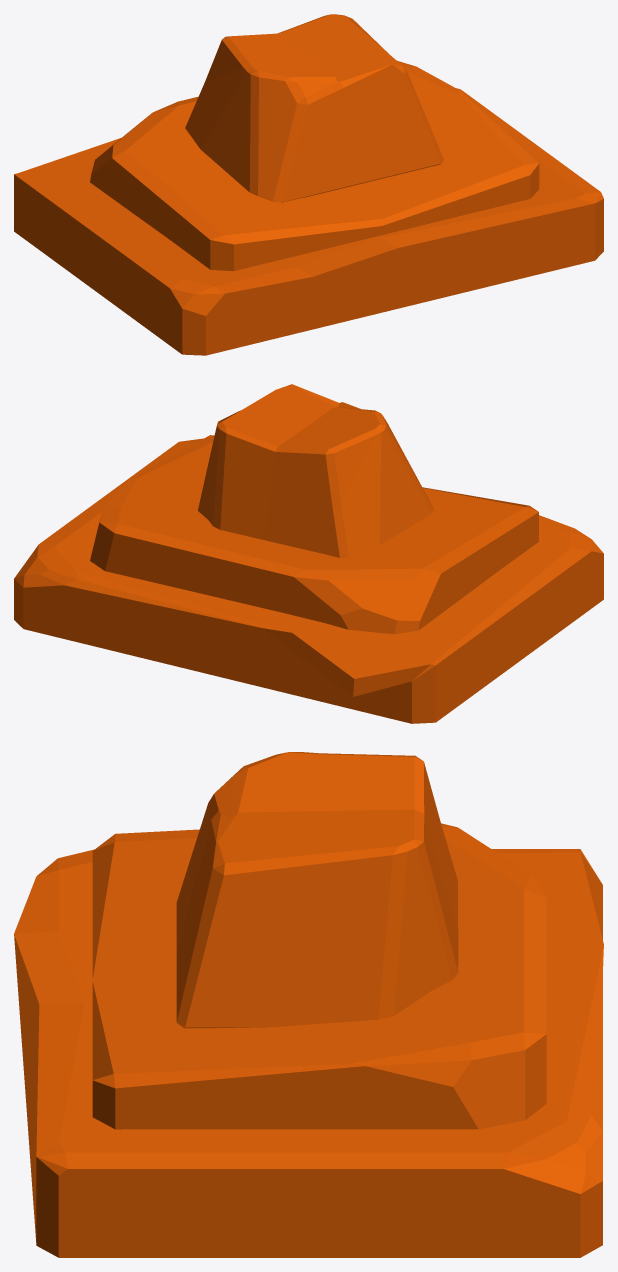
The model's file is Stone_2_09.fbx.
3 views of the same model, one above another, from view 1: azimuth 30°, elevation 25°; view 2: azimuth 150°, elevation 25°; view 3: azimuth 270°, elevation 25° (orthographic). The views are drawn at different scales.
Visible parts, largest first — view 1: Cube.002, Cube.003, Cube.004; view 2: Cube.002, Cube.003, Cube.004; view 3: Cube.002, Cube.003, Cube.004.
Boxes of the visible parts, box(x1,y1,x2,y2) form: Cube.002: box(14, 88, 603, 355); Cube.003: box(90, 60, 539, 271); Cube.004: box(185, 14, 443, 202); Cube.002: box(14, 438, 603, 723); Cube.003: box(90, 435, 538, 634); Cube.004: box(198, 384, 433, 557); Cube.002: box(14, 849, 603, 1257); Cube.003: box(92, 823, 546, 1129); Cube.004: box(176, 752, 458, 1028).
Bounding box in the file's own units: 724 × 324 × 564.
